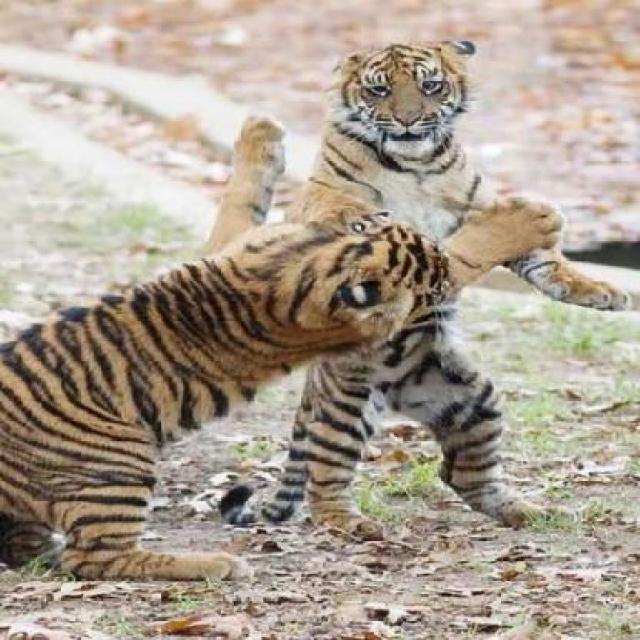Tiger: (0, 189, 455, 593), (281, 22, 604, 558)
